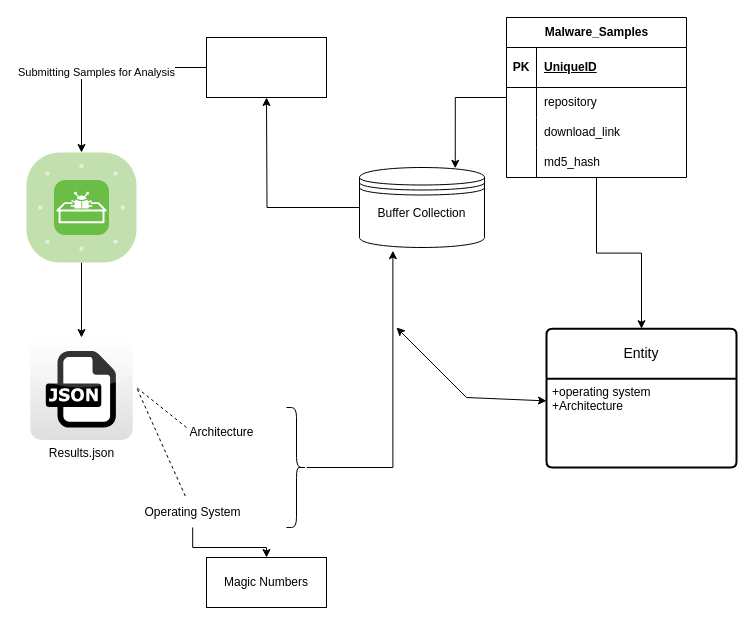
Some shapes in this 754 by 625 pixel diagram are drawn without their labels. Each missing label, with the centre of its shape:
"Cuckoo Sandbox" goes at pixel 81 207.
"Storing and Processing Each Malware locally" goes at pixel 266 67.
